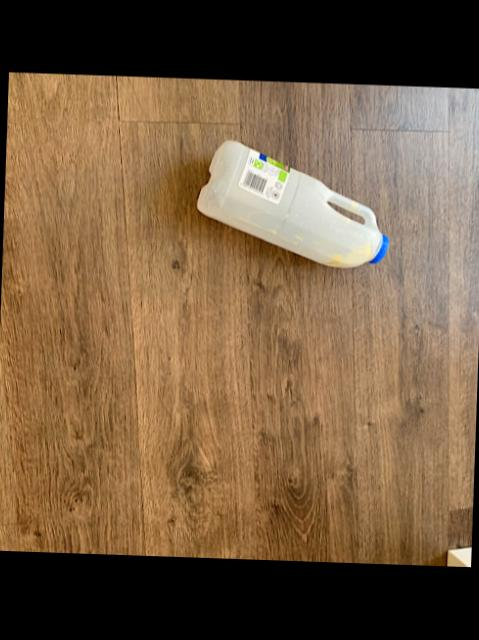plastic: (197, 140, 388, 266)
